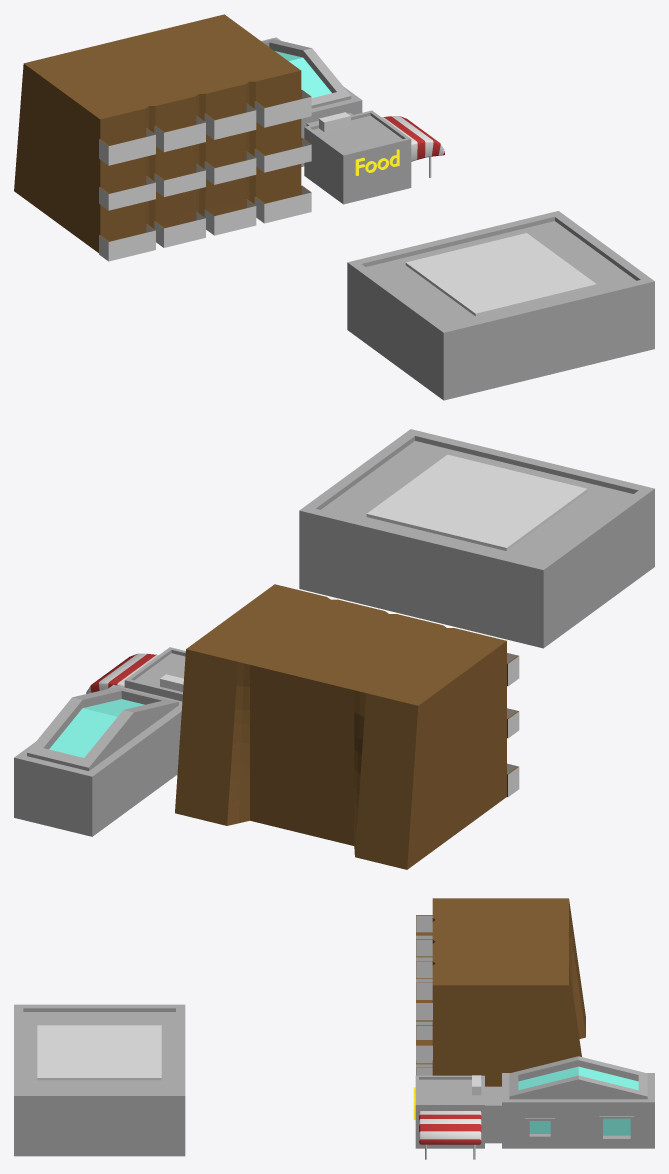
File: Skitse2.glb
The picture shows the model from 3 angles, top to bottom: view 1: azimuth 30°, elevation 25°; view 2: azimuth 150°, elevation 25°; view 3: azimuth 270°, elevation 25°; orthographic projection. The views are drawn at different scales.
Parts seen in each view (by area): view 1: Cube.002, Cube.003, Cube.001; view 2: Cube.002, Cube.003, Cube.001; view 3: Cube.002, Cube.003, Cube.001.
Part boxes in pixels (x1=…): Cube.002: x1=14, y1=14, x2=311, y2=261; Cube.003: x1=347, y1=211, x2=654, y2=400; Cube.001: x1=261, y1=37, x2=444, y2=204; Cube.002: x1=175, y1=584, x2=519, y2=869; Cube.003: x1=299, y1=429, x2=654, y2=648; Cube.001: x1=14, y1=647, x2=185, y2=836; Cube.002: x1=416, y1=898, x2=585, y2=1086; Cube.003: x1=14, y1=1004, x2=185, y2=1156; Cube.001: x1=415, y1=1056, x2=654, y2=1159.
Size of what is drawn, in the model's own units: 15.42 by 5.86 by 28.44.
